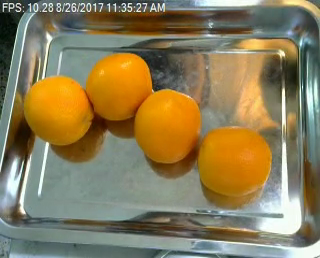Orange: (196, 124, 271, 195), (136, 87, 201, 165), (22, 75, 93, 145), (86, 52, 152, 120)
